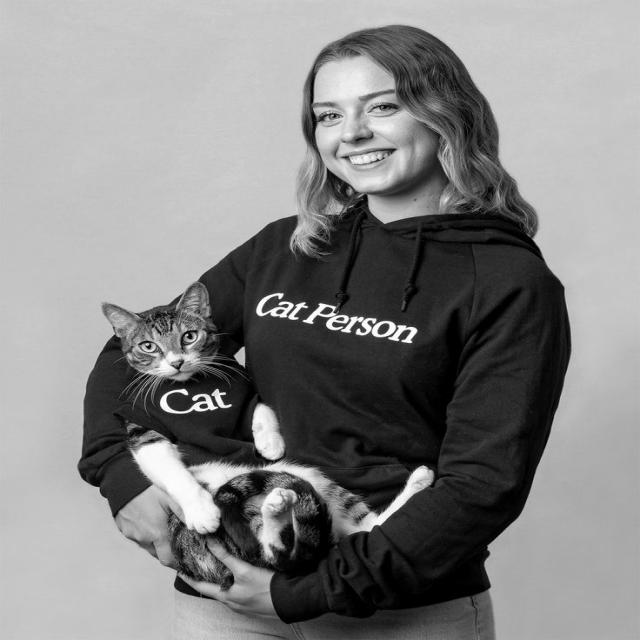cat: (77, 297, 430, 567)
person: (164, 17, 601, 278)
